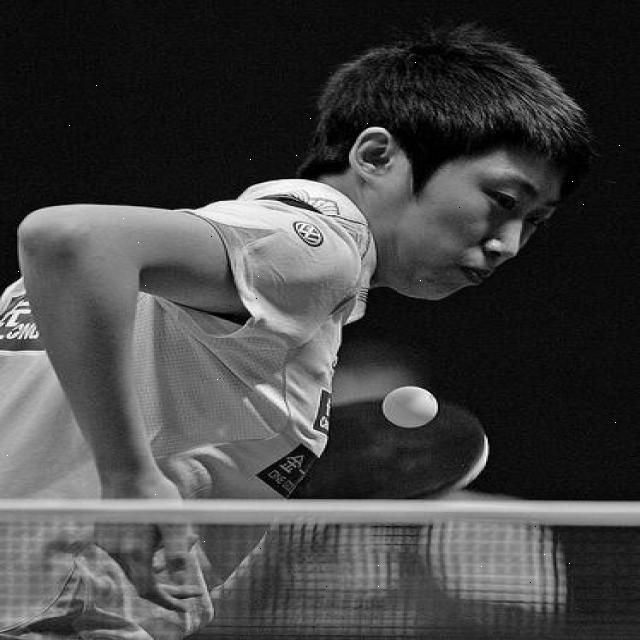ping-pong-ball: (378, 386, 440, 429)
